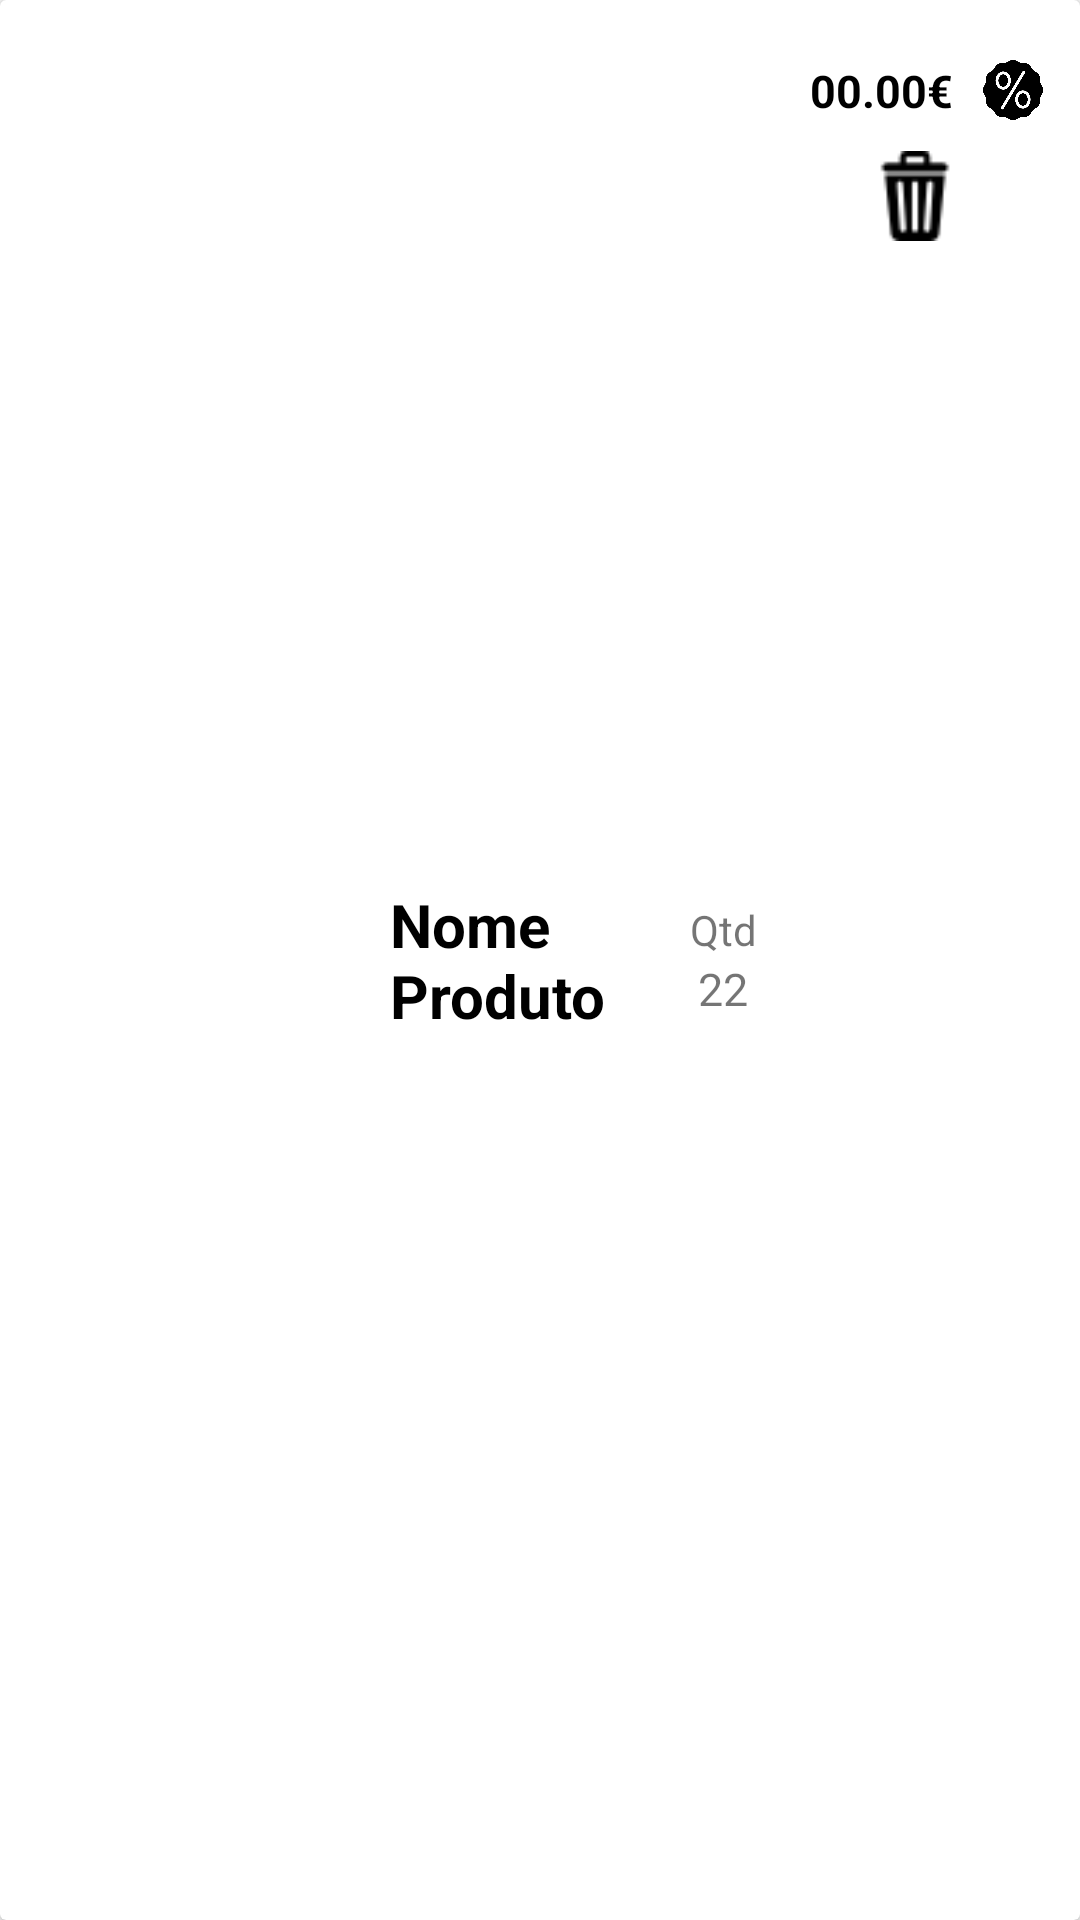

Icons on this 1080w x 1920h Android screen, each with its box as (left=x1, top=y1, right=x2, bottom=y2):
descontos: (left=983, top=60, right=1043, bottom=120)
remover: (left=880, top=151, right=950, bottom=241)
